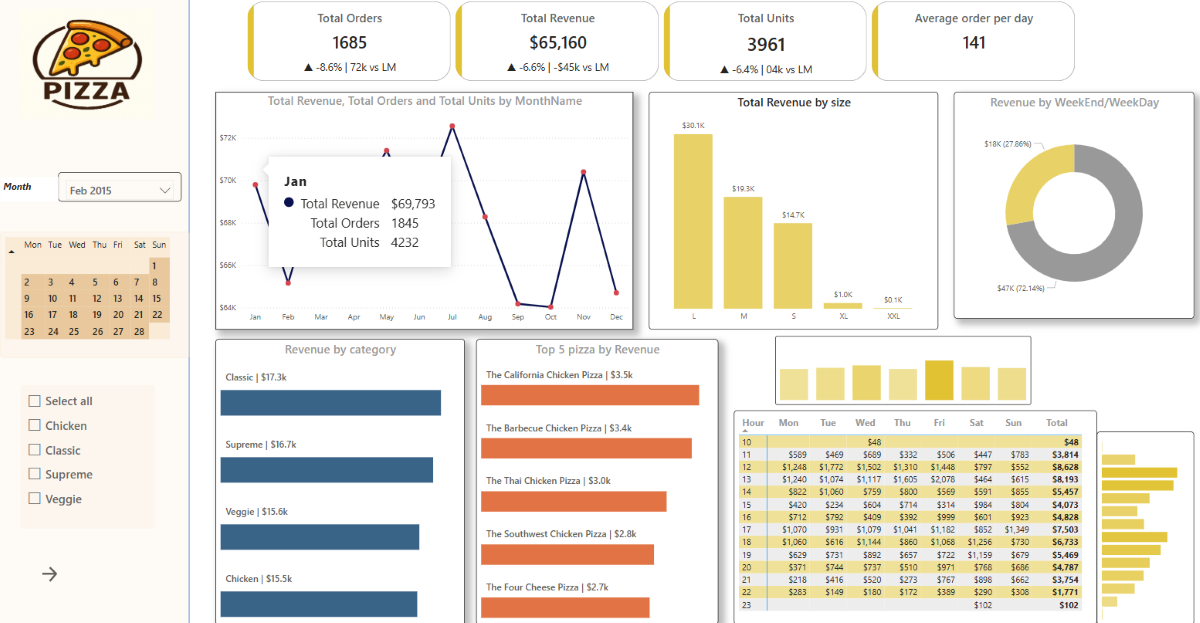

What the dashboard file says about the page in this screenshot:
{"tool":"powerbi","page":{"name":"Summery","canvas":[1920,1000],"ordinal":0},"visuals":[{"type":"shape","box":[0,0,304.9,1079.5],"z":0},{"type":"cardVisual","fields":{"Data":["Table.Total Orders","Table.Total Revenue","Table.Total Units","Table.Average order per day"]},"box":[392.4,0,1330.8,137.8],"z":1000},{"type":"image","box":[16.9,11.9,247.3,184.6],"z":2000},{"type":"lineChart","fields":{"Y":["Table.Total Revenue","select"],"Category":["Calender.MonthName"]},"box":[346.5,149.4,666.8,378.8],"z":3000},{"type":"clusteredBarChart","title":" Revenue by category","fields":{"Category":["pizza_sales pizza_types.category"],"Y":["_measures.Dummy_series","_measures.Total Revenue"]},"box":[346.5,543.6,397.3,455.8],"z":4000},{"type":"columnChart","fields":{"Category":["pizza_sales pizzas.size"],"Y":["_measures.Total Revenue"]},"box":[1037.9,149.4,462,378.8],"z":5000},{"type":"pivotTable","fields":{"Rows":["pizza_sales orders.Hour"],"Columns":["Calender.Week_day"],"Values":["Table.Total Revenue"]},"box":[1173.4,657.6,579,341.9],"z":6000},{"type":"clusteredColumnChart","fields":{"Y":["Table.Total Revenue"],"Category":["Calender.Week_day"]},"box":[1240.1,539,408.1,109.9],"z":7000},{"type":"donutChart","title":" Revenue by WeekEnd/WeekDay","fields":{"Category":["Calender.status"],"Y":["Table.Total Revenue"]},"box":[1524.5,149.4,383.4,361.9],"z":8000},{"type":"clusteredBarChart","title":"Top 5 pizza by Revenue","fields":{"Category":["pizza_sales pizza_types.name"],"Y":["_measures.Dummy_series","_measures.Total Revenue"]},"box":[762.3,543.6,386.5,455.8],"z":9000},{"type":"slicer","fields":{"Values":["pizza_sales pizza_types.category"]},"box":[34.9,617.4,214.5,228.5],"z":10000},{"type":"slicer","fields":{"Values":["Calender.MonthYear"]},"box":[95.9,277.3,197.1,47.1],"z":11000},{"type":"textbox","box":[3.8,284.7,92.4,40.1],"z":12000},{"type":"pivotTable","fields":{"Columns":["Calender.Week_day"],"Rows":["Calender.Week"],"Values":["Min(Calender.Day)"]},"box":[3.5,373.3,301.7,200.6],"z":13000},{"type":"actionButton","box":[64.5,901.7,57.6,33.1],"z":14000},{"type":"barChart","fields":{"Y":["Table.Total Revenue"],"Category":["pizza_sales orders.Hour"]},"box":[1752.5,691.4,155.5,308],"z":15000}]}

Visuals, with their boxes in screenshot pixels (x1, y1, x2, y2), scaled from the page's 1920x1000 canvas onto the 1200x623 screenshot:
shape: 0/0/191/622
cardVisual - Table.Total Orders x Table.Total Revenue: 245/0/1077/86
image: 11/7/165/122
lineChart - Table.Total Revenue x select: 217/93/633/329
" Revenue by category" clusteredBarChart: 217/339/465/622
columnChart - pizza_sales pizzas.size x _measures.Total Revenue: 649/93/937/329
pivotTable - pizza_sales orders.Hour x Calender.Week_day: 733/410/1095/622
clusteredColumnChart - Table.Total Revenue x Calender.Week_day: 775/336/1030/404
" Revenue by WeekEnd/WeekDay" donutChart: 953/93/1192/319
"Top 5 pizza by Revenue" clusteredBarChart: 476/339/718/622
slicer - pizza_sales pizza_types.category: 22/385/156/527
slicer - Calender.MonthYear: 60/173/183/202
textbox: 2/177/60/202
pivotTable - Calender.Week_day x Calender.Week: 2/233/191/358
actionButton: 40/562/76/582
barChart - Table.Total Revenue x pizza_sales orders.Hour: 1095/431/1192/622
